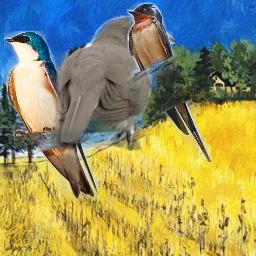Cuckoo: (51, 15, 175, 151)
Swallow: (4, 31, 99, 199), (127, 2, 211, 162)
